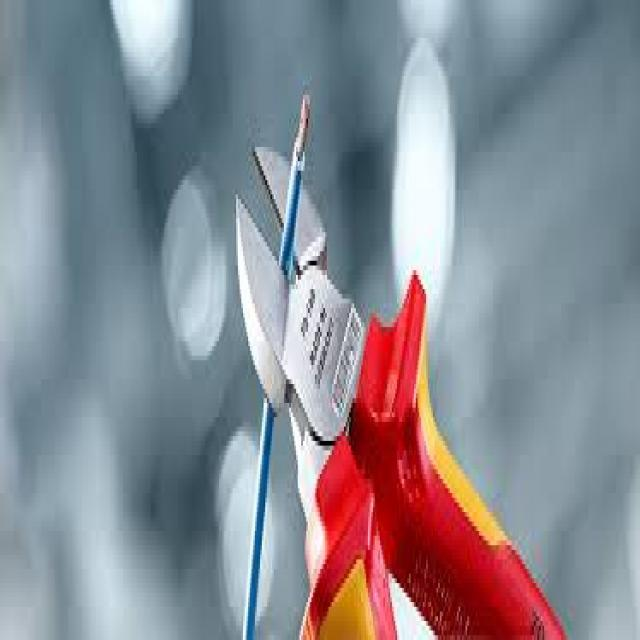pliers: (228, 121, 538, 640)
